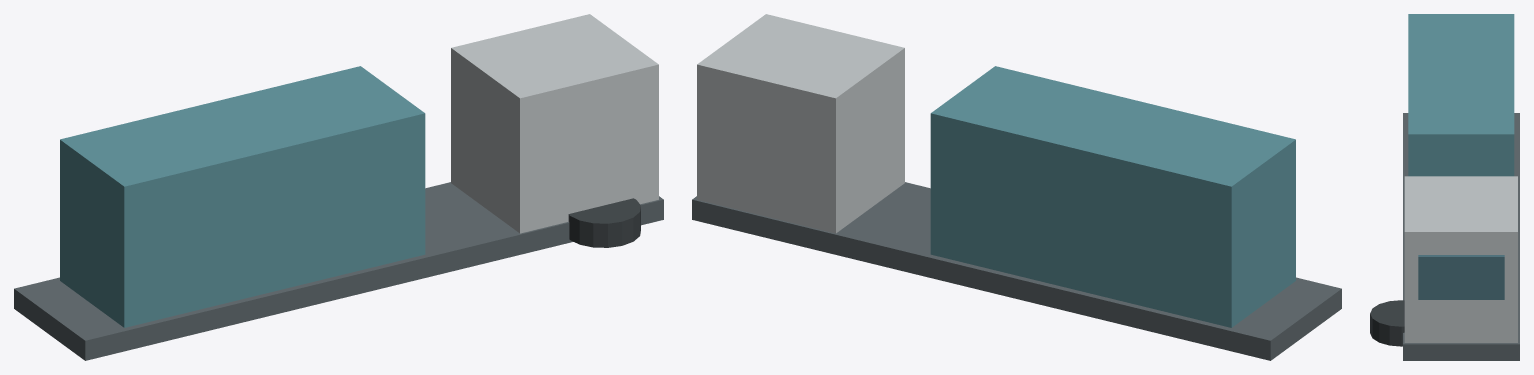
Rendered from truck-lod1.glb.
The picture shows the model from 3 angles, left to right: view 1: azimuth 30°, elevation 25°; view 2: azimuth 150°, elevation 25°; view 3: azimuth 270°, elevation 25°; orthographic projection. The views are drawn at different scales.
Parts seen in each view (by area): view 1: load, cab, chassis, wheel; view 2: load, cab, chassis; view 3: load, cab, windshield, chassis, wheel.
Boxes of the visible parts, x1,y1,x2,y2 form: load: (60, 66, 425, 327); cab: (451, 14, 658, 233); chassis: (14, 182, 663, 360); wheel: (568, 198, 640, 247); load: (930, 66, 1295, 327); cab: (697, 14, 904, 233); chassis: (692, 182, 1341, 360); load: (1408, 14, 1514, 176); cab: (1404, 176, 1517, 342); windshield: (1418, 255, 1504, 299); chassis: (1403, 113, 1519, 360); wheel: (1370, 300, 1404, 346).
Size of the model in its own units: 7.52 by 2 by 2.05.
